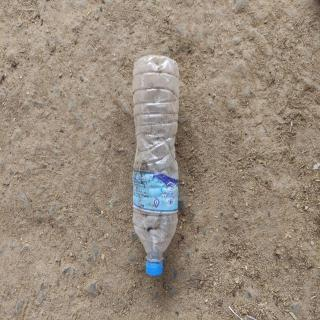Plastic-bottle: (131, 54, 183, 280)
